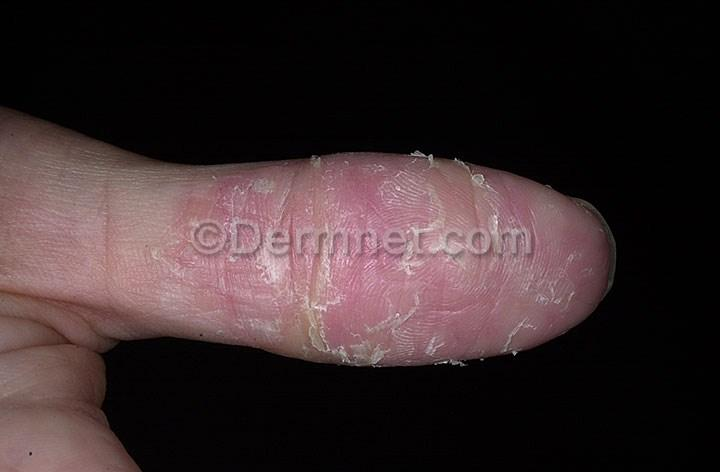Eczema: (282, 152, 564, 357)
